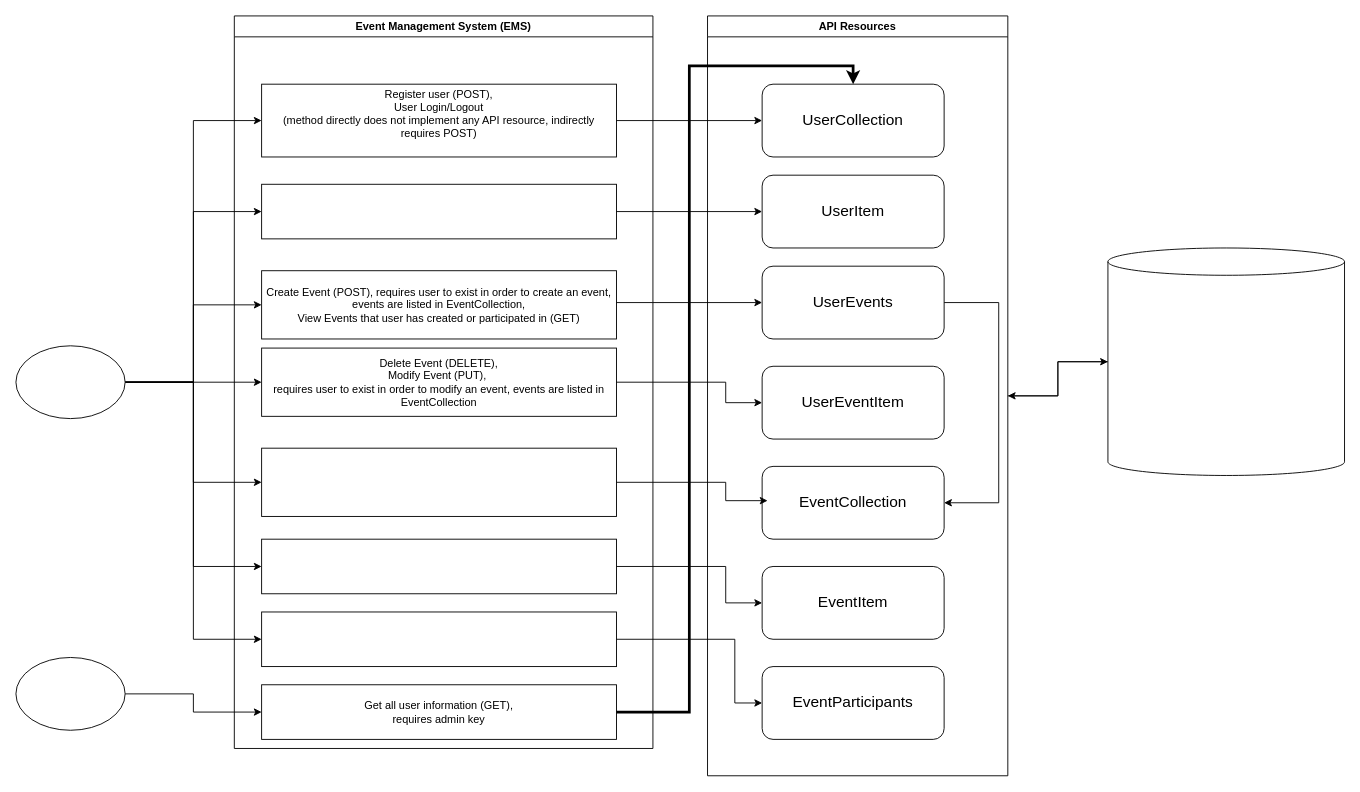
This 1360x792 diagram has some shape labels left out. Each missing label, with the centre of its shape:
"Admin" belongs at point (70, 693).
"Database" belongs at point (1226, 361).
"Get a list of all events (GET)" belongs at point (439, 481).
"Get the details of an event (GET)" belongs at point (439, 566).
"Modify user information (PUT), Delete user (DELETE), Get user information (GET)" belongs at point (439, 211).
"Participate in an event (PUT), Remove participation from an event (DELETE)" belongs at point (439, 639).
"User" belongs at point (70, 382).
